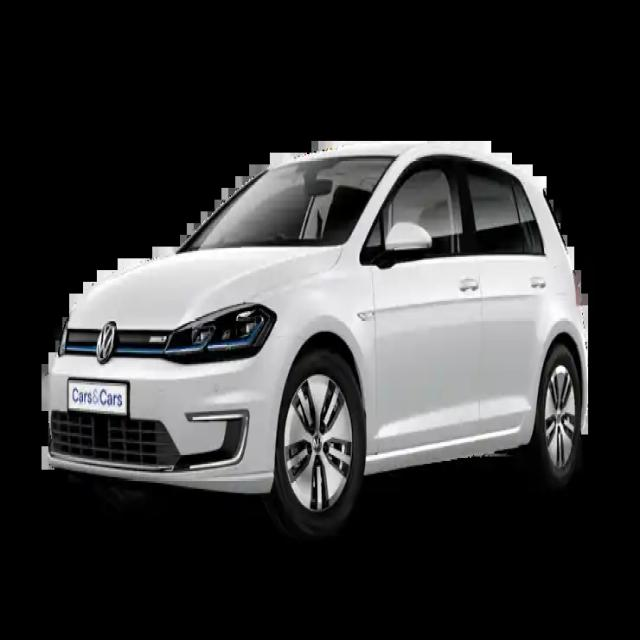Cars: (28, 54, 624, 536)
